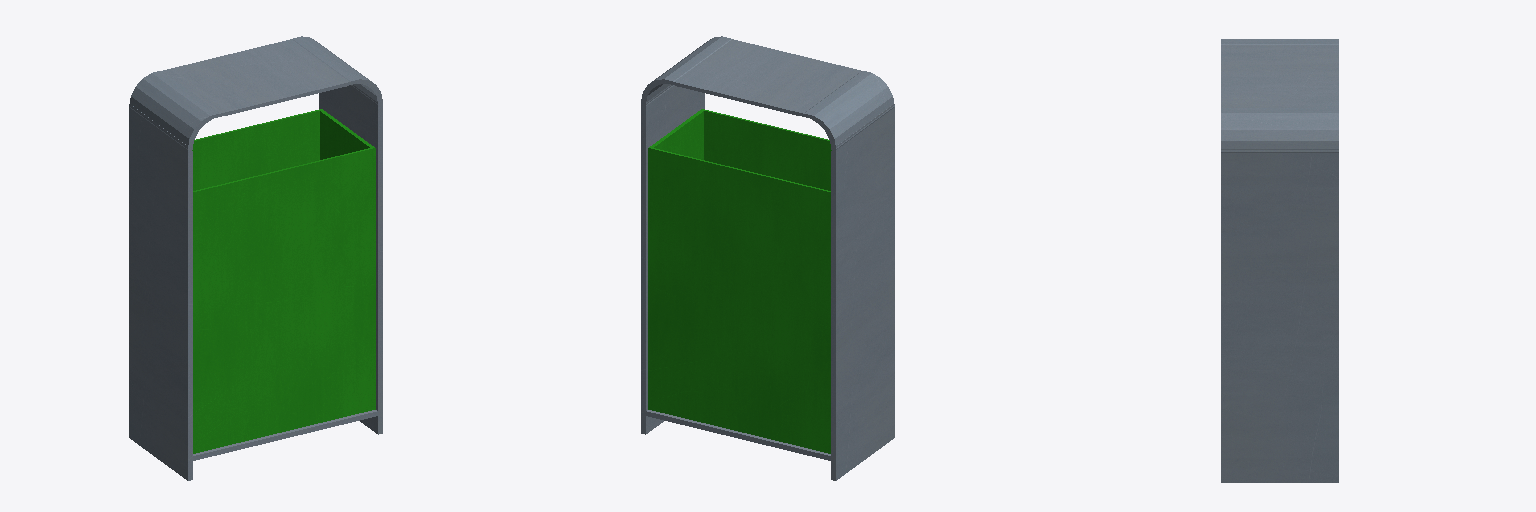
3 views of the same model, side by side, from view 1: azimuth 30°, elevation 25°; view 2: azimuth 150°, elevation 25°; view 3: azimuth 270°, elevation 25° (orthographic).
Visible parts, largest first — view 1: Box020, Box019; view 2: Box020, Box019; view 3: Box019.
Part boxes in pixels (bbox=[...]): Box020: bbox=[192, 109, 375, 453]; Box019: bbox=[129, 36, 382, 480]; Box020: bbox=[648, 109, 831, 453]; Box019: bbox=[641, 36, 894, 480]; Box019: bbox=[1221, 39, 1338, 482].
Bounding box in the file's own units: 27.77 × 48.99 × 14.47.
2 materials, 2 textured.